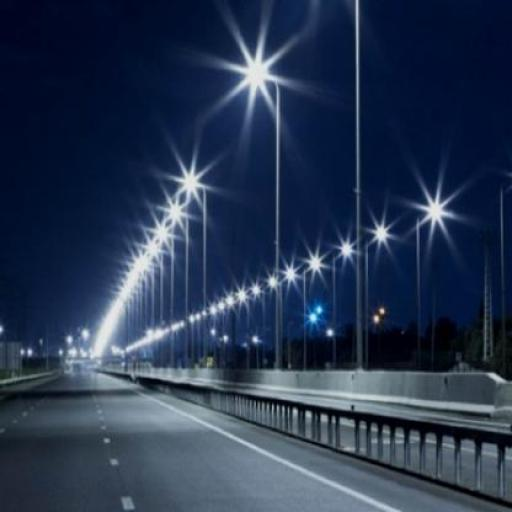street light: (246, 64, 281, 370), (183, 176, 208, 367), (415, 203, 443, 369), (364, 230, 387, 369), (285, 267, 306, 372), (303, 258, 320, 370), (266, 278, 280, 369)
